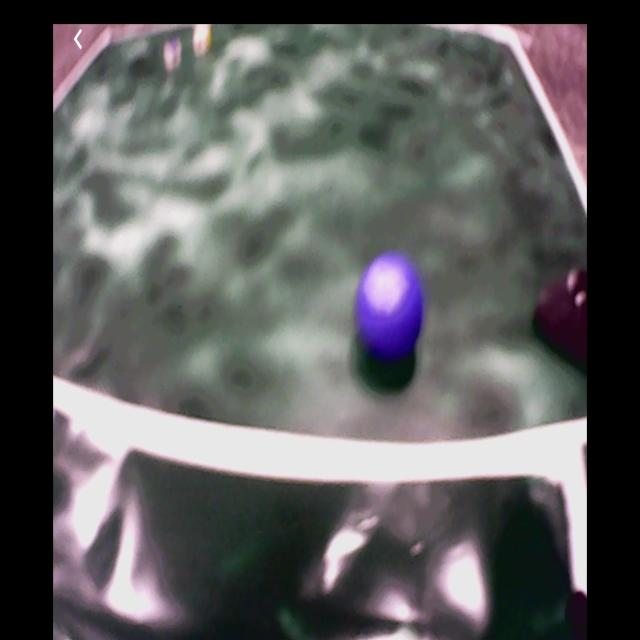ball: (357, 254, 424, 363)
